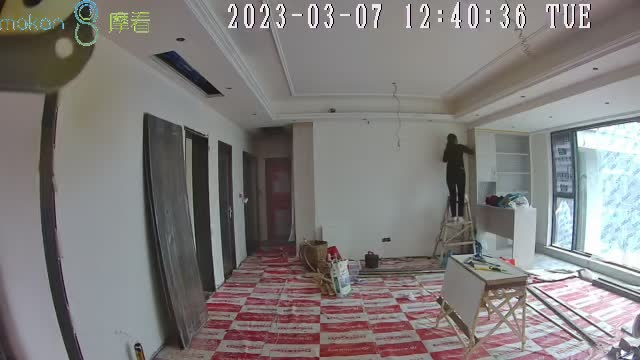people: (442, 133, 473, 223)
window: (548, 120, 640, 272)
